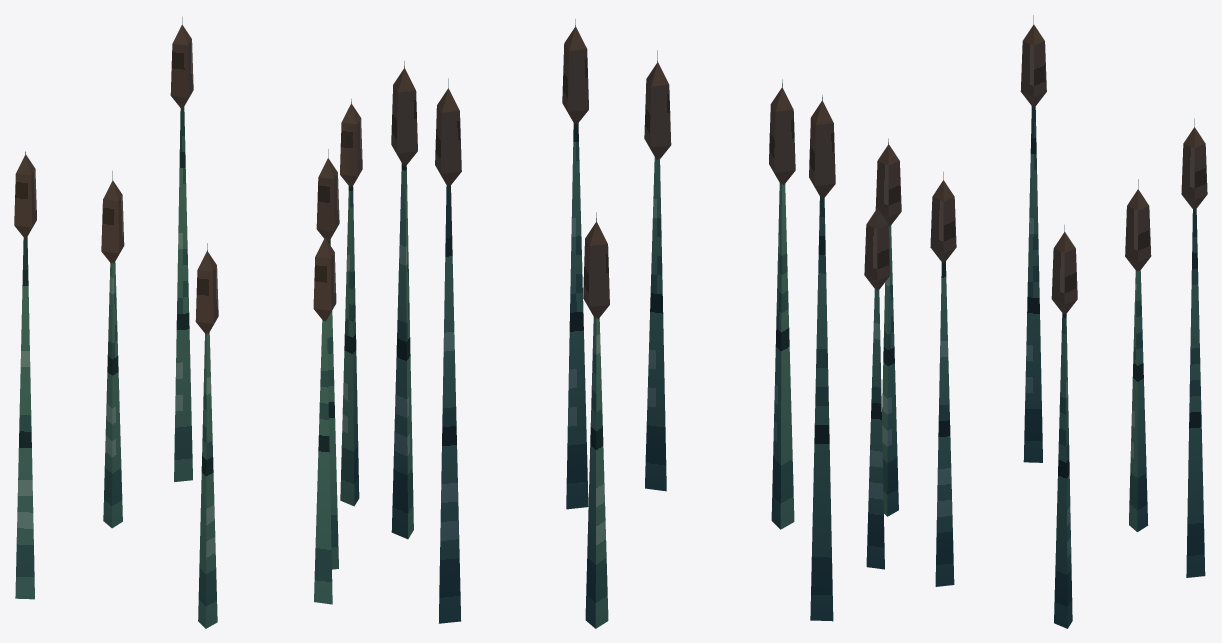
File: mnat.flowers__reeds.glb
3 views of the same model, side by side, from view 1: azimuth 30°, elevation 25°; view 2: azimuth 150°, elevation 25°; view 3: azimuth 270°, elevation 25° (orthographic). The views are drawn at different scales.
Visible parts, largest first — view 1: kit_plants, kit_heads; view 2: kit_plants, kit_heads; view 3: kit_plants, kit_heads.
Boxes of the visible parts, x1,y1,x2,y2 form: kit_plants: (15,17,359,628); kit_heads: (14,24,362,334); kit_plants: (391,19,833,628); kit_heads: (391,26,835,319); kit_plants: (866,15,1205,628); kit_heads: (864,24,1207,314).
Bounding box in the file's own units: 1.11 × 1.35 × 0.9196.
Materials: 2 (2 with a texture image).
